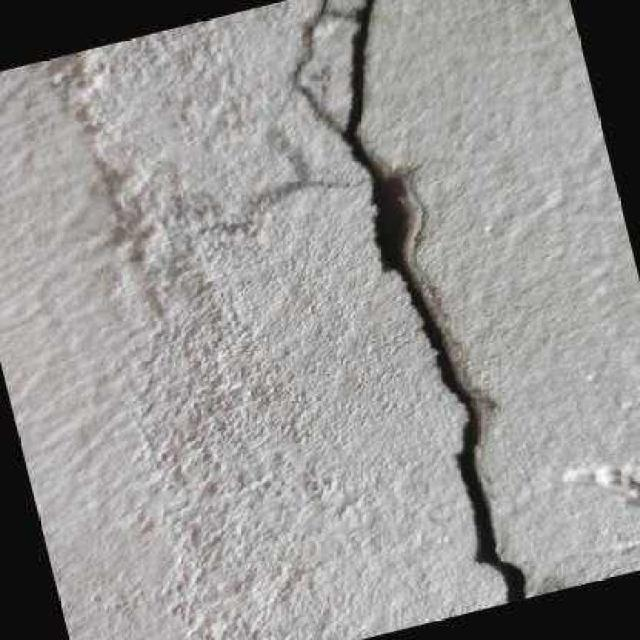D00: (289, 0, 527, 603)
